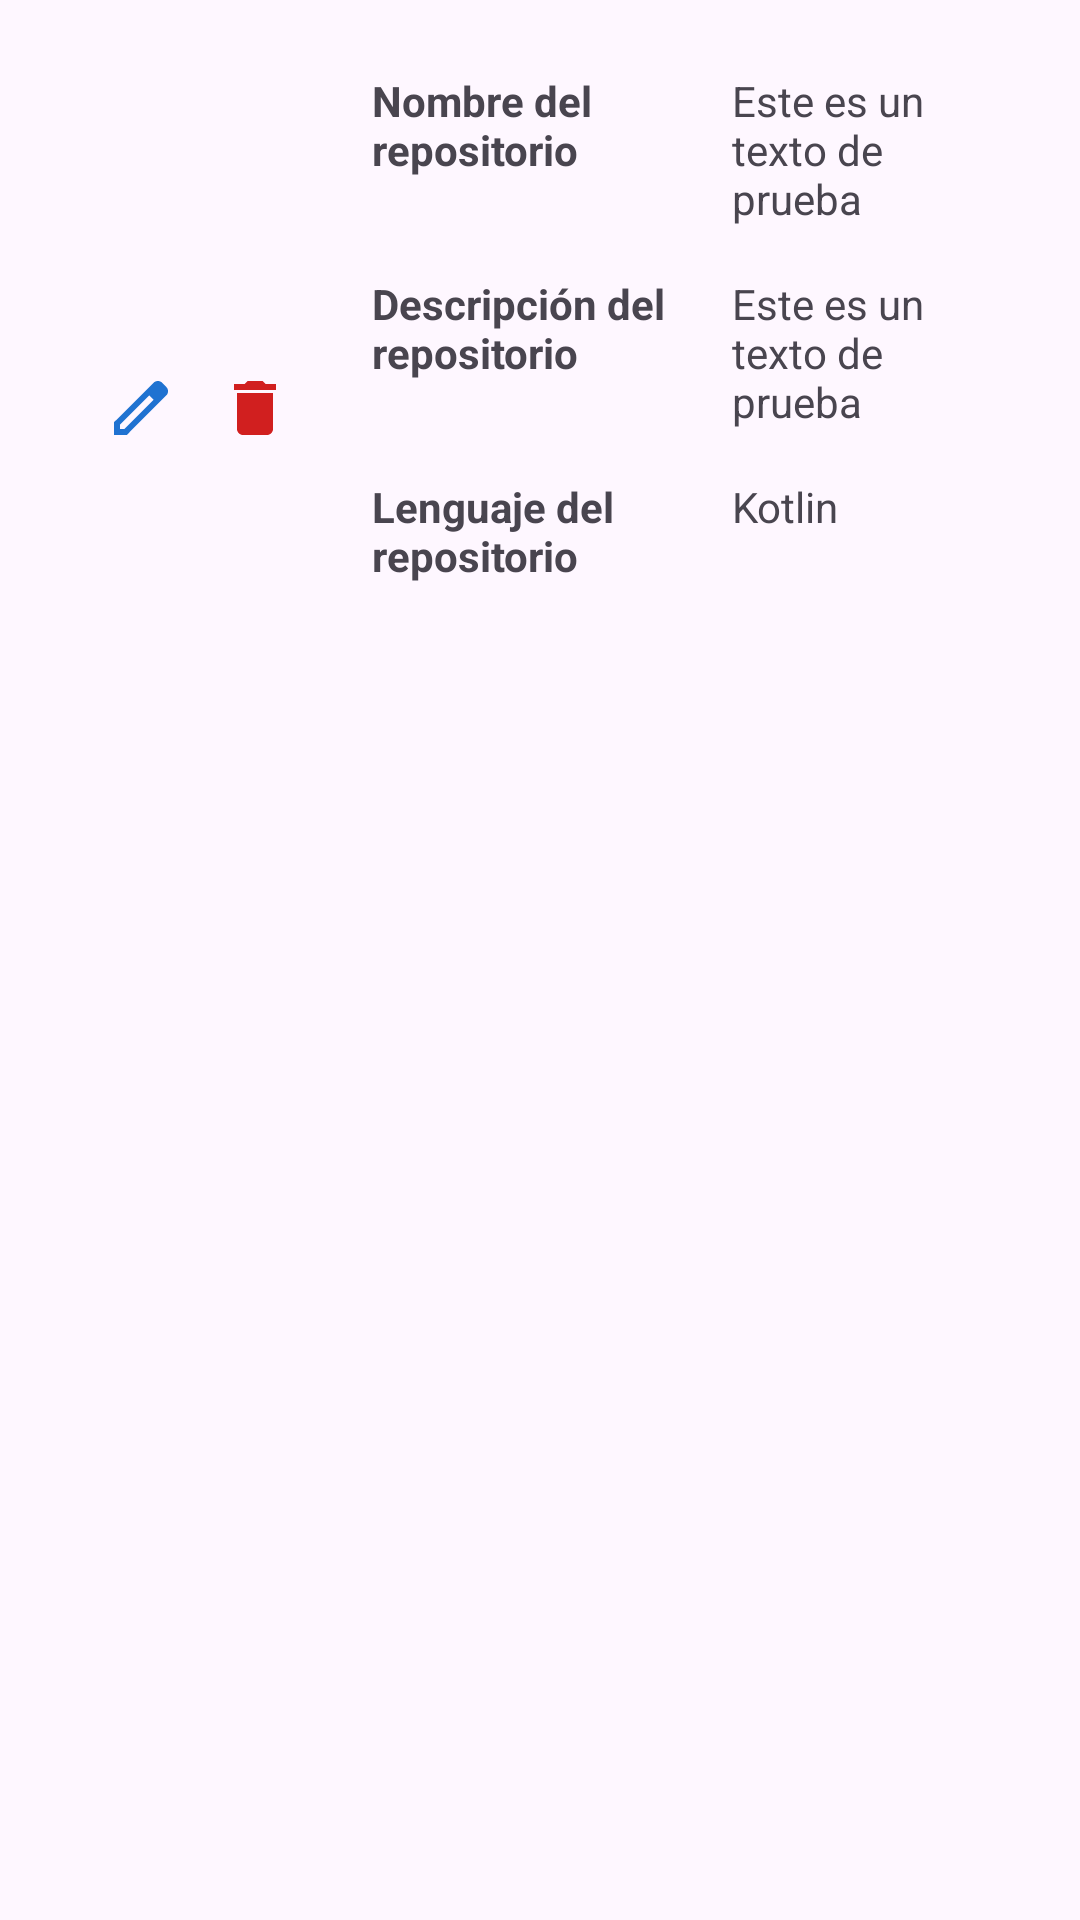

Where to tap for icons on this 1080 × 1920 app screen, as [x,y]:
Editar repositorio: [141,408]
Eliminar repositorio: [255,408]
